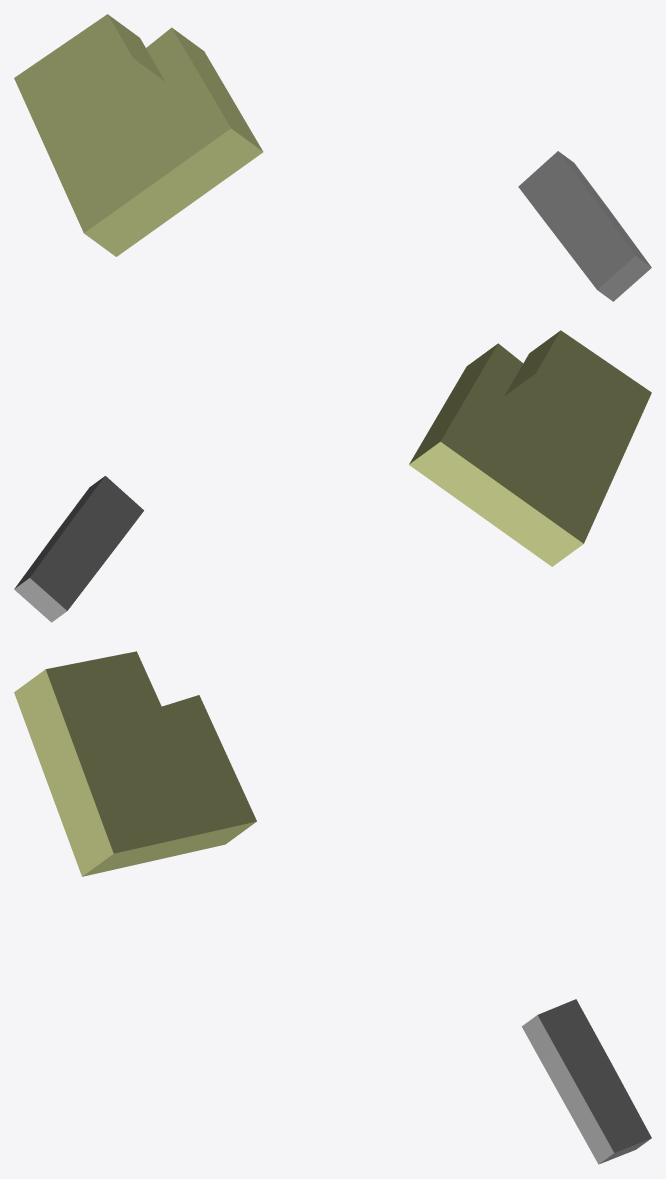
The picture shows the model from 3 angles, top to bottom: view 1: azimuth 30°, elevation 25°; view 2: azimuth 150°, elevation 25°; view 3: azimuth 330°, elevation 25°; orthographic projection. The views are drawn at different scales.
Parts seen in each view (by area): view 1: 0_2_3_2_1_2_3_0; view 2: 0_2_3_2_1_2_3_0; view 3: 0_2_3_2_1_2_3_0.
Part boxes in pixels (x1,y1,x2,y2): 0_2_3_2_1_2_3_0: [14, 14, 651, 301]; 0_2_3_2_1_2_3_0: [14, 330, 651, 622]; 0_2_3_2_1_2_3_0: [14, 651, 651, 1164].
Bounding box in the file's own units: 66.31 × 40.31 × 6.06.
